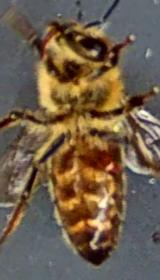varroa_mite: (84, 144, 132, 184)
